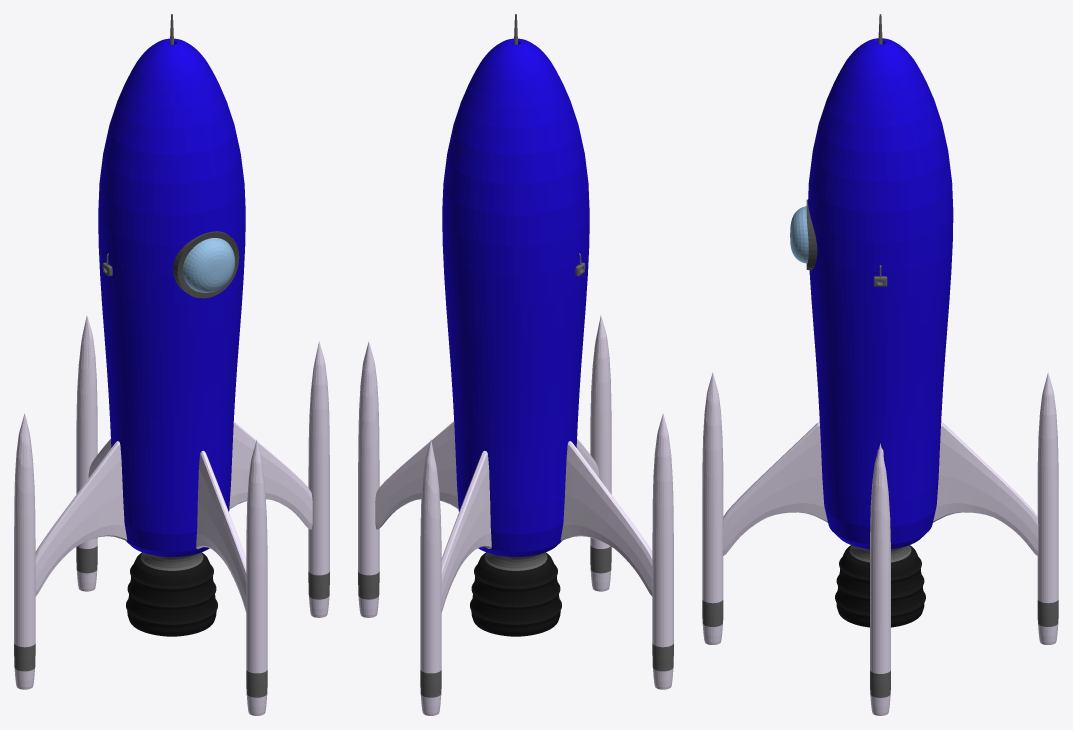
File: rocket_model5_.fbx
The picture shows the model from 3 angles, left to right: view 1: azimuth 30°, elevation 25°; view 2: azimuth 150°, elevation 25°; view 3: azimuth 270°, elevation 25°; orthographic projection.
Parts seen in each view (by area): view 1: Cylinder, Cylinder.003, Cylinder.002, Cylinder.001, Cylinder.004, Sphere; view 2: Cylinder, Cylinder.003, Cylinder.002, Cylinder.004, Cylinder.001; view 3: Cylinder, Cylinder.001, Cylinder.004, Cylinder.002, Sphere.
Part boxes in pixels (box(x1,y1,x2,y2)): Cylinder: box(98, 38, 245, 636); Cylinder.003: box(14, 413, 127, 689); Cylinder.002: box(229, 341, 329, 617); Cylinder.001: box(196, 440, 267, 715); Cylinder.004: box(76, 315, 111, 591); Sphere: box(172, 231, 239, 298); Cylinder: box(442, 38, 589, 636); Cylinder.003: box(560, 413, 673, 689); Cylinder.002: box(358, 341, 458, 617); Cylinder.004: box(420, 440, 491, 715); Cylinder.001: box(576, 315, 611, 591); Cylinder: box(808, 38, 953, 627); Cylinder.001: box(702, 372, 827, 644); Cylinder.004: box(933, 372, 1058, 644); Cylinder.002: box(870, 443, 890, 715); Sphere: box(790, 199, 817, 270).
Bounding box in the file's own units: 611 × 1188 × 611.
